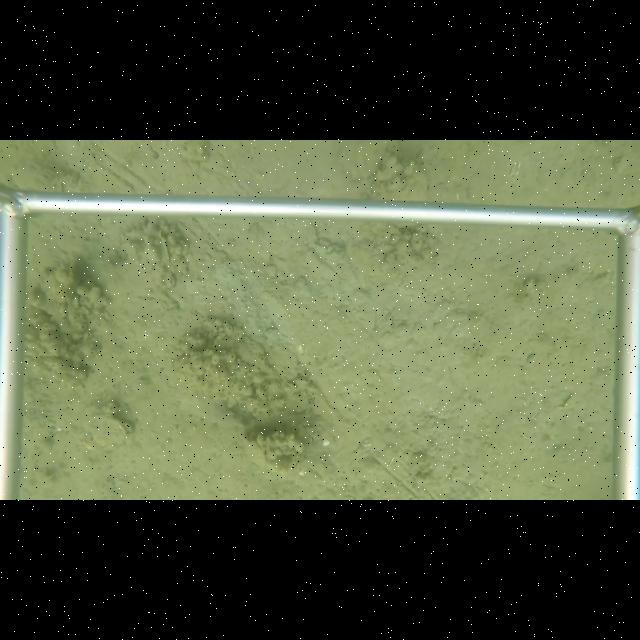Oyster-Closed: (338, 141, 387, 181), (155, 225, 174, 270)
